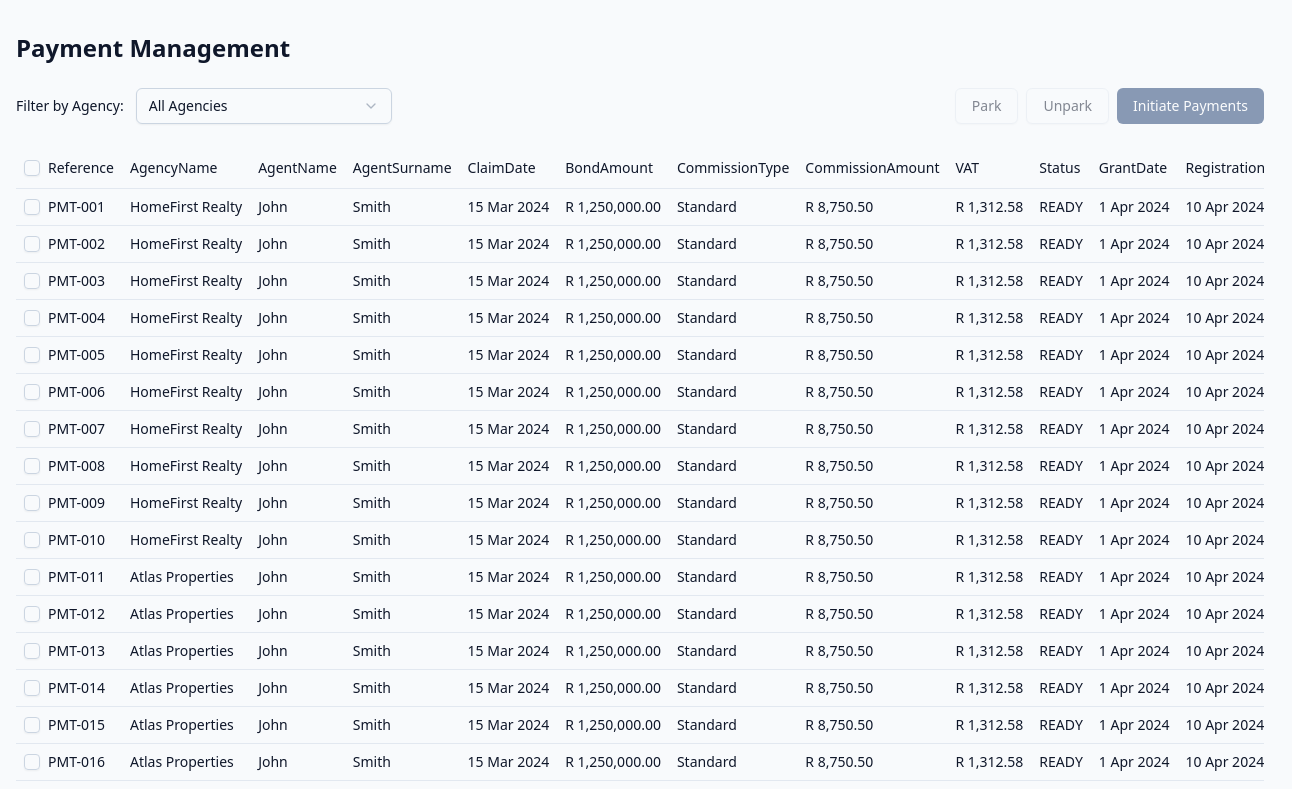
Test: Filter narrows to zero matching rows (AC-23) › shows "No payments ready for processing." when the selected agency has no matching rows
Select HomeFirst Realty (it exists) — this works normally
Click the dropdown. click: (264, 106)
box: top-left (136, 88), bottom-right (392, 124)
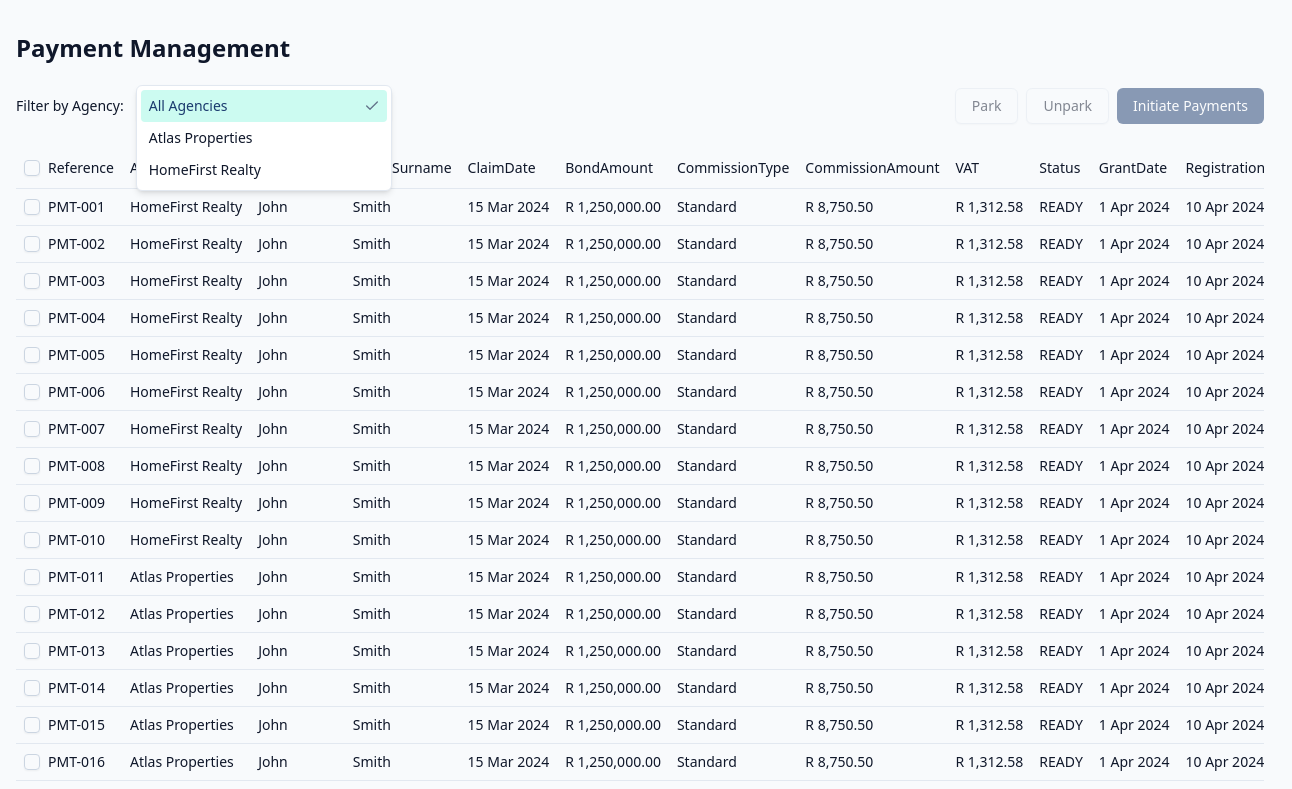
Click the option "Atlas Properties". click: (201, 138)
box: top-left (149, 128), bottom-right (252, 147)
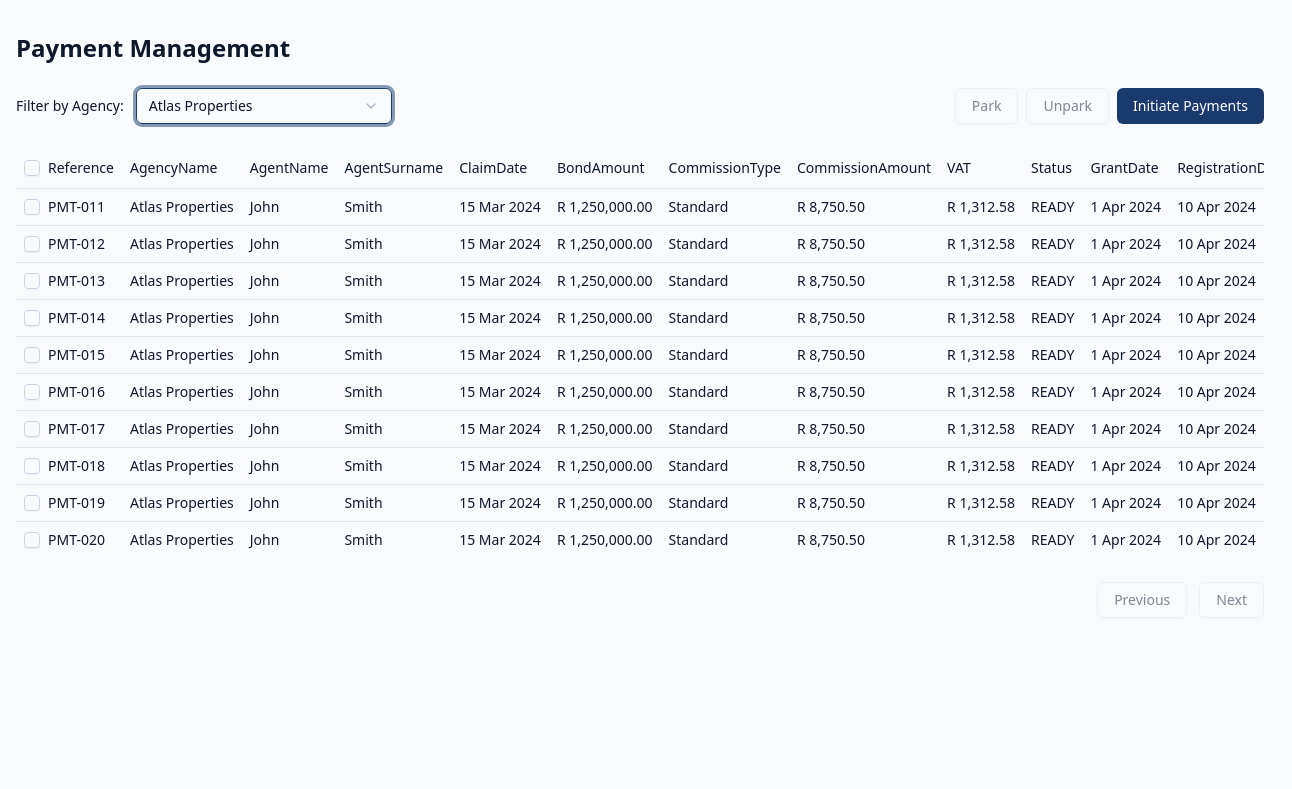
Expected: the text "PMT-011" is shown, top-left (40, 188), bottom-right (122, 225)
Now switch to HomeFirst — it also has rows
Click the dropdown. click: (264, 106)
box: top-left (136, 88), bottom-right (392, 124)
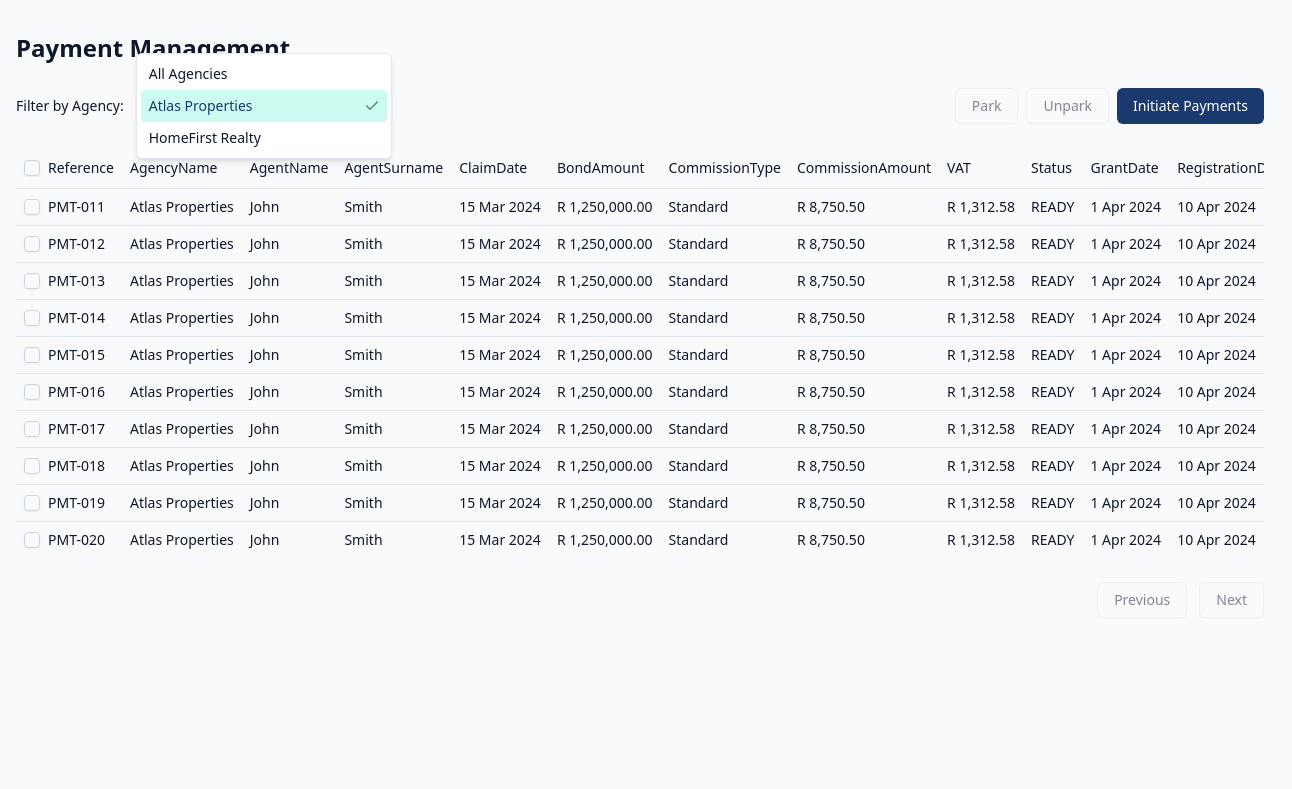
Click the option "HomeFirst Realty". click: (205, 138)
box: top-left (149, 128), bottom-right (261, 147)
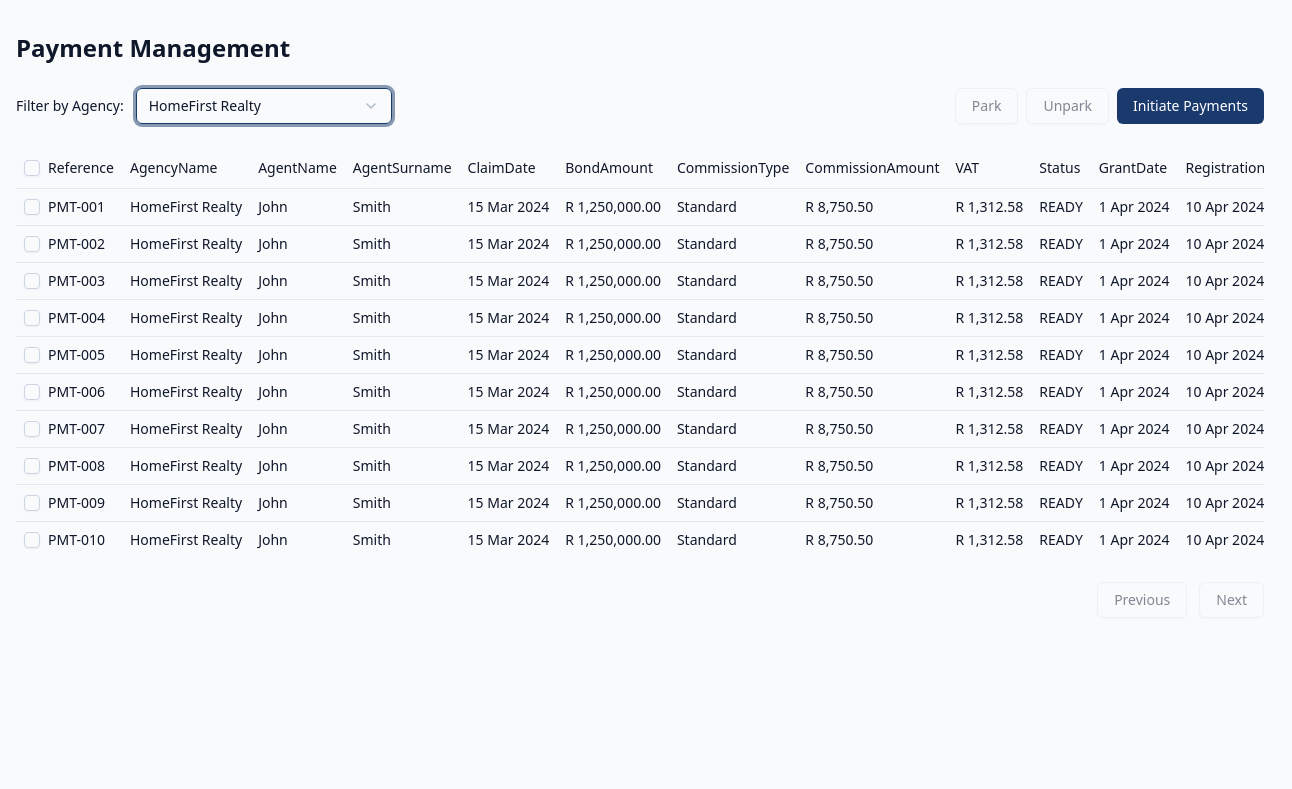
Expected: the text "PMT-001" is shown, top-left (40, 188), bottom-right (122, 225)
